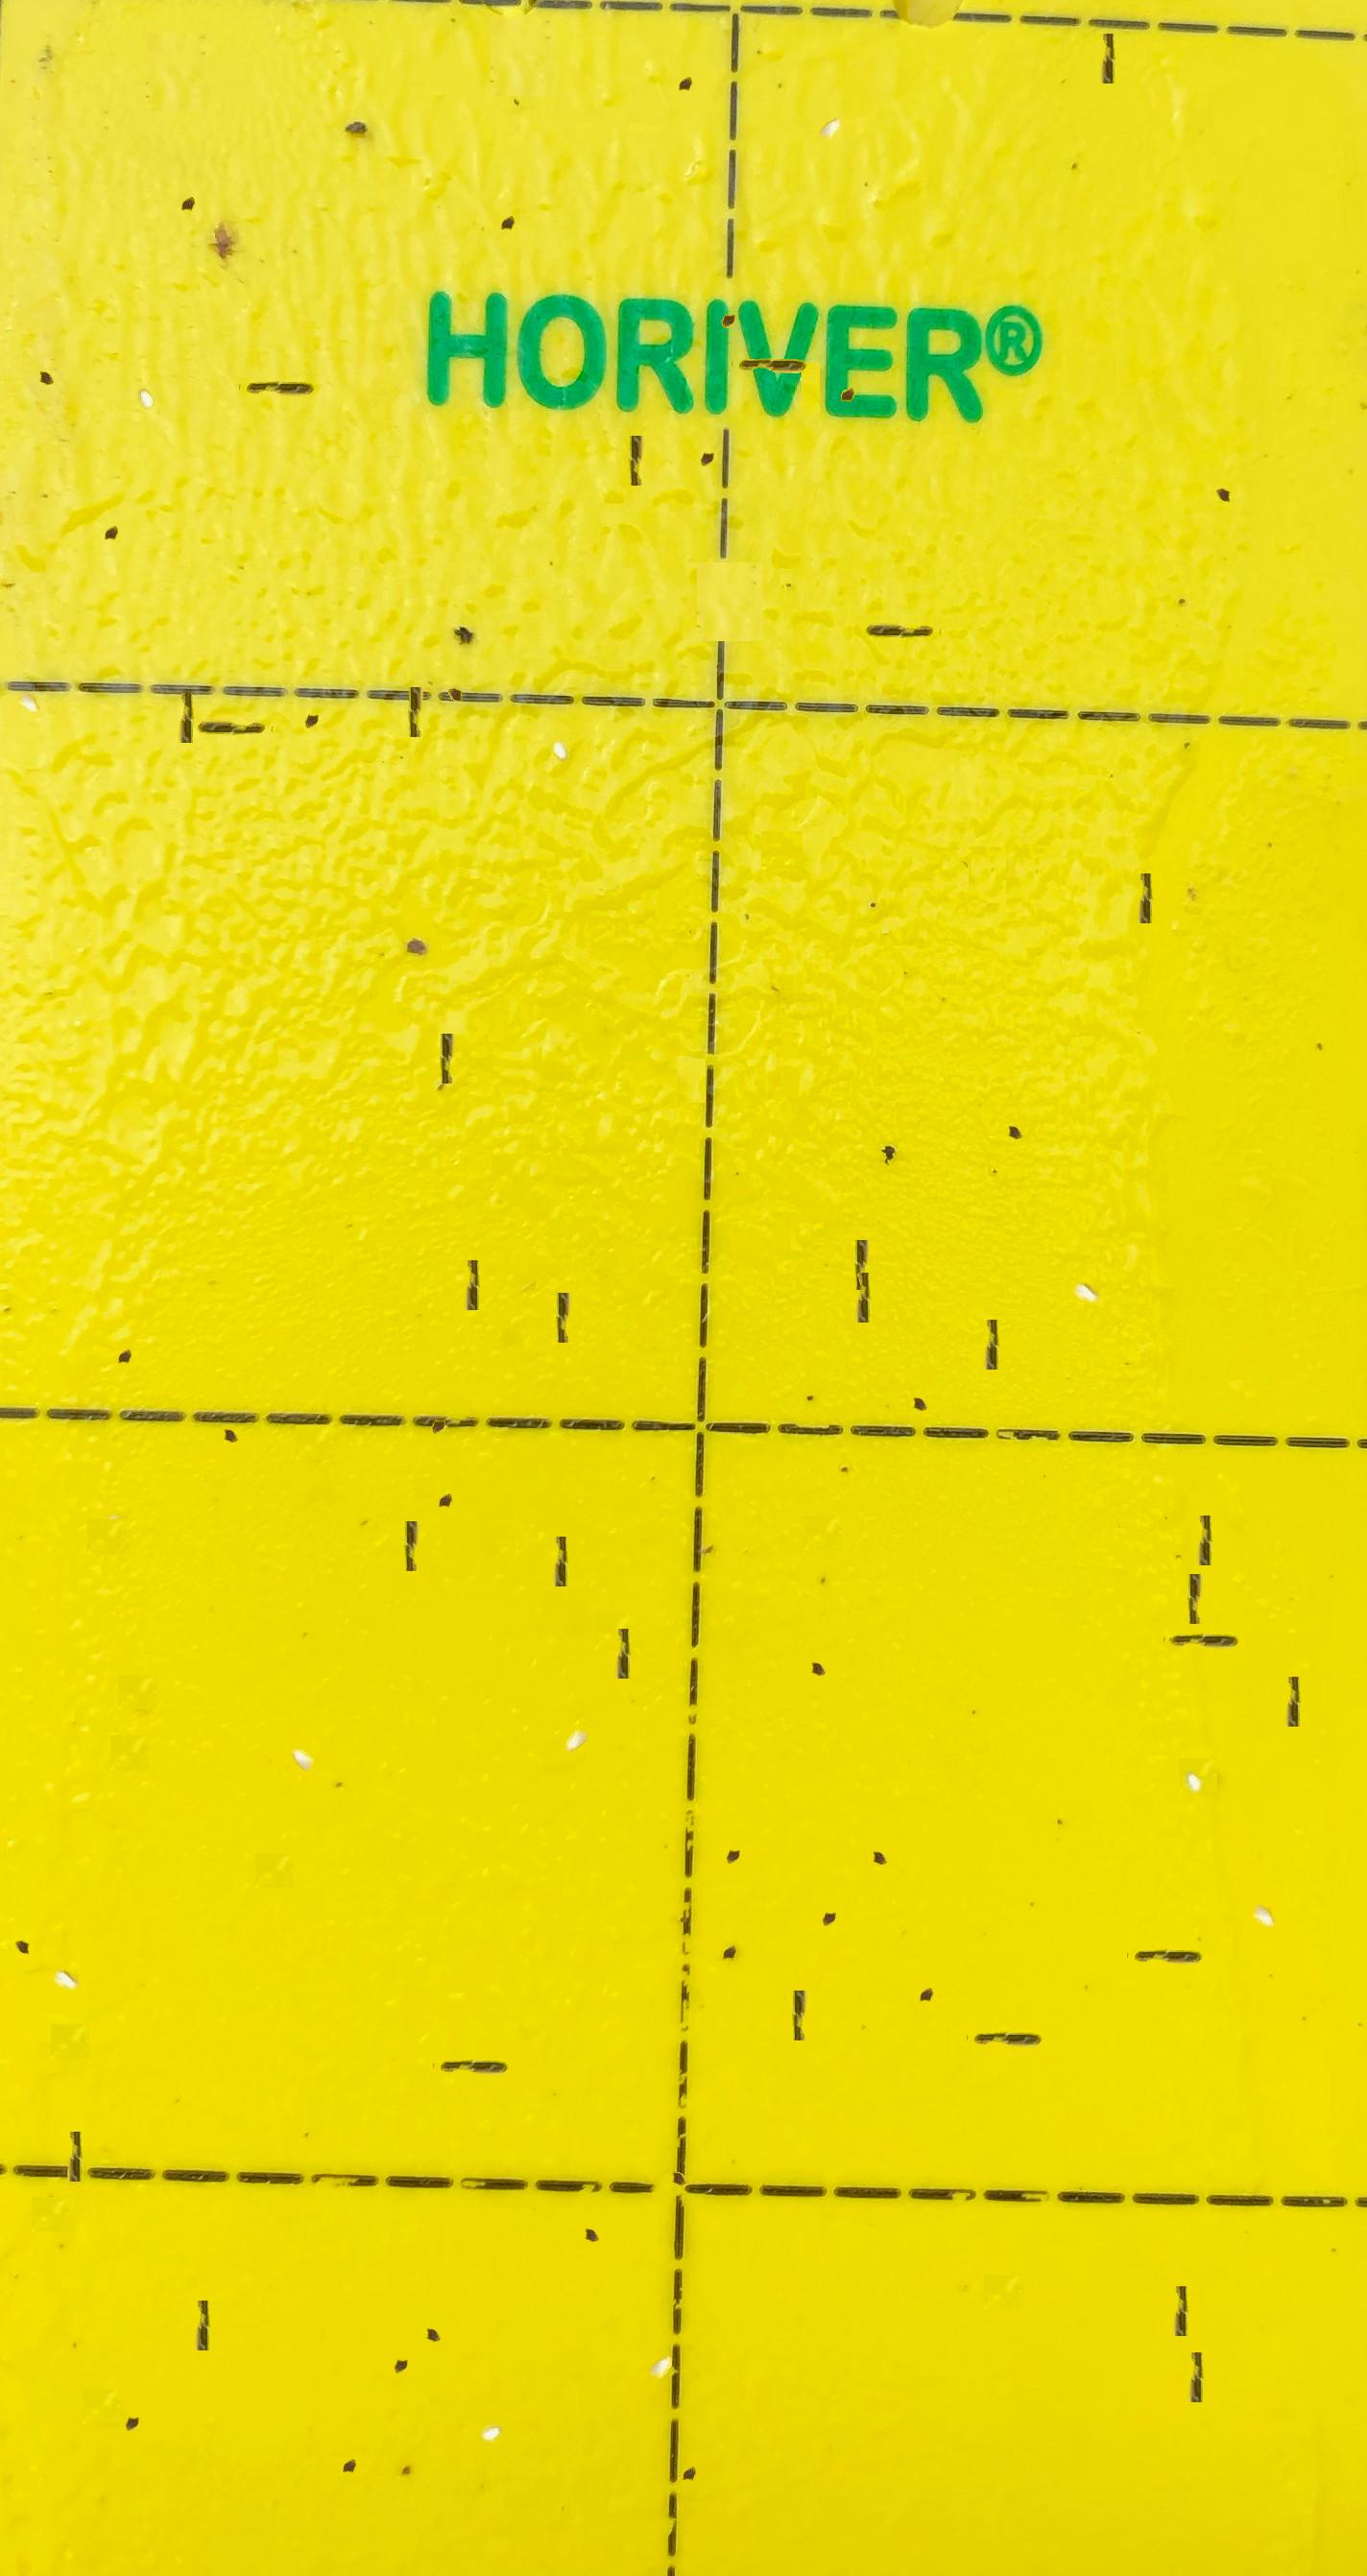white_fly: (124, 329, 167, 377), (469, 2361, 511, 2409), (1173, 1711, 1214, 1760), (43, 1913, 85, 1959), (540, 678, 581, 726), (1062, 1227, 1105, 1271), (810, 65, 852, 109), (1243, 1850, 1285, 1893), (556, 1675, 598, 1717), (639, 2303, 682, 2346), (7, 637, 49, 680), (283, 1695, 324, 1739)
